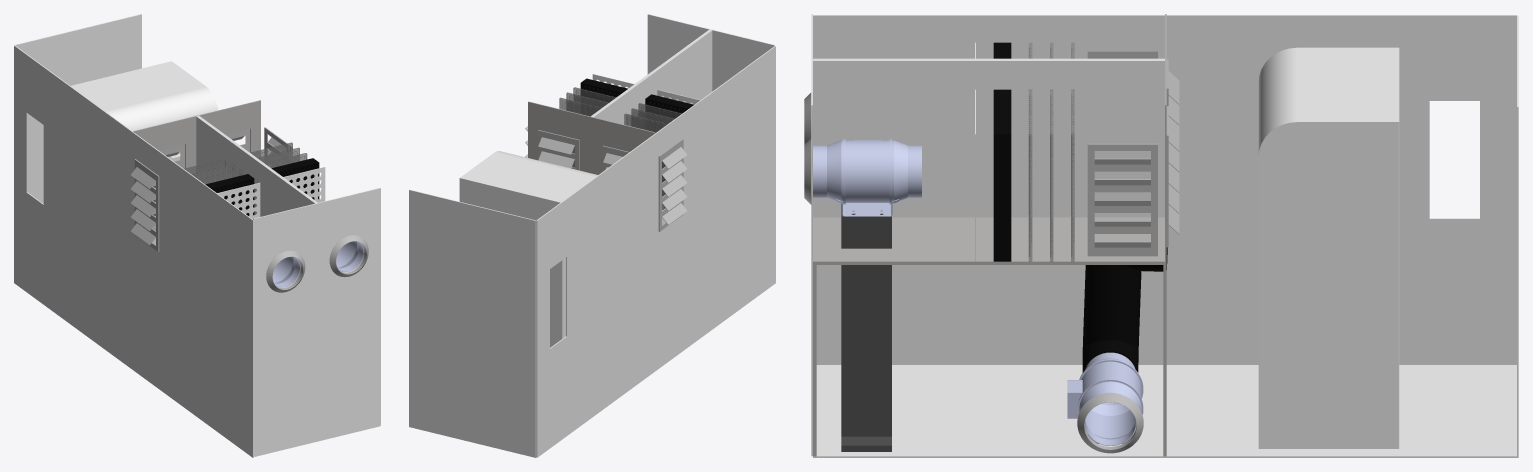
File: new-awh-system.glb
3 views of the same model, side by side, from view 1: azimuth 30°, elevation 25°; view 2: azimuth 150°, elevation 25°; view 3: azimuth 270°, elevation 25° (orthographic). The views are drawn at different scales.
Parts seen in each view (by area): view 1: Solid1 (×20); view 2: Solid1 (×17); view 3: Solid1 (×16).
Part boxes in pixels (x1,y1,x2,y2): Solid1 (×20): (14,14,380,457); Solid1 (×17): (409,14,775,457); Solid1 (×16): (811,14,1518,457).
Bounding box in the file's own units: 0.6968 × 1.11 × 2.03.
9 materials, 1 textured.
